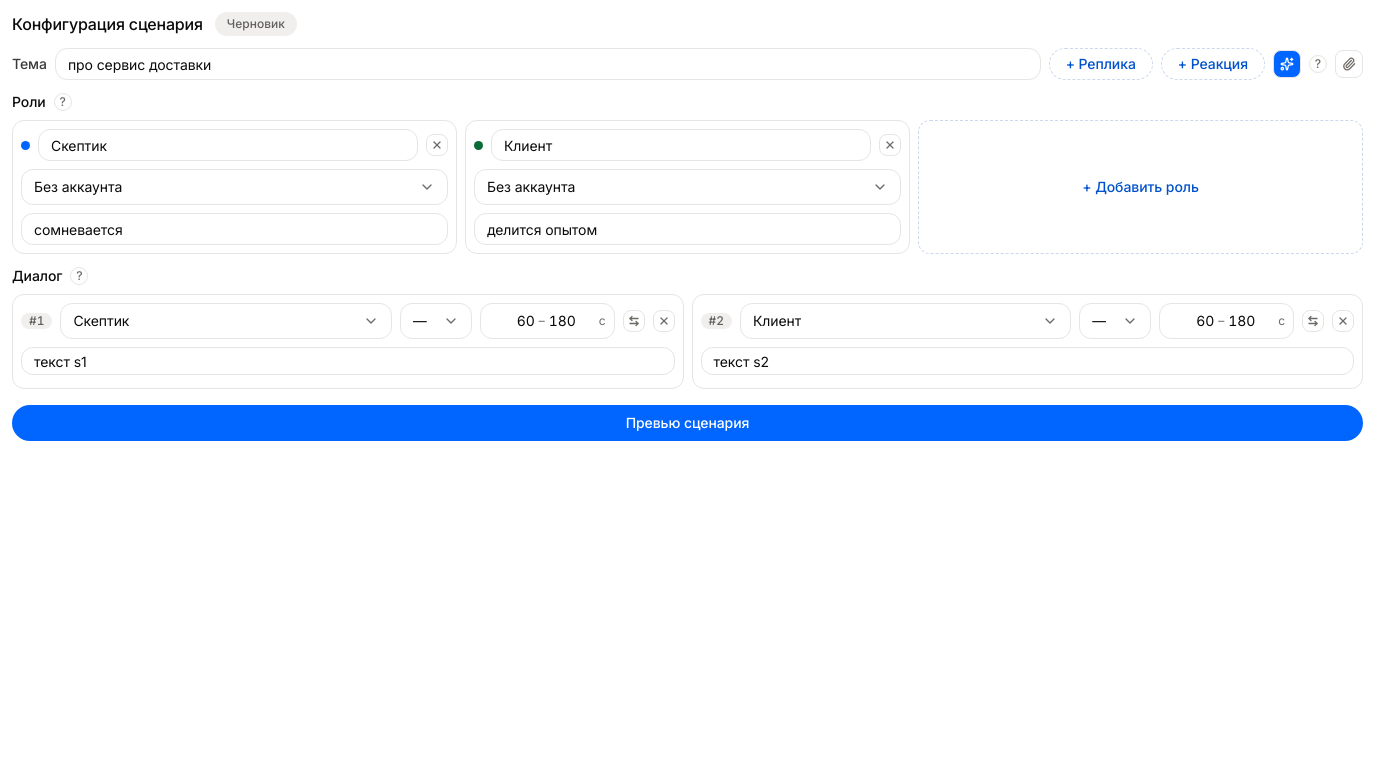
it: a new message step inherits the first role and lands at the end
Click the button "+ Реплика": (1101, 64) [1049,48,1153,80]
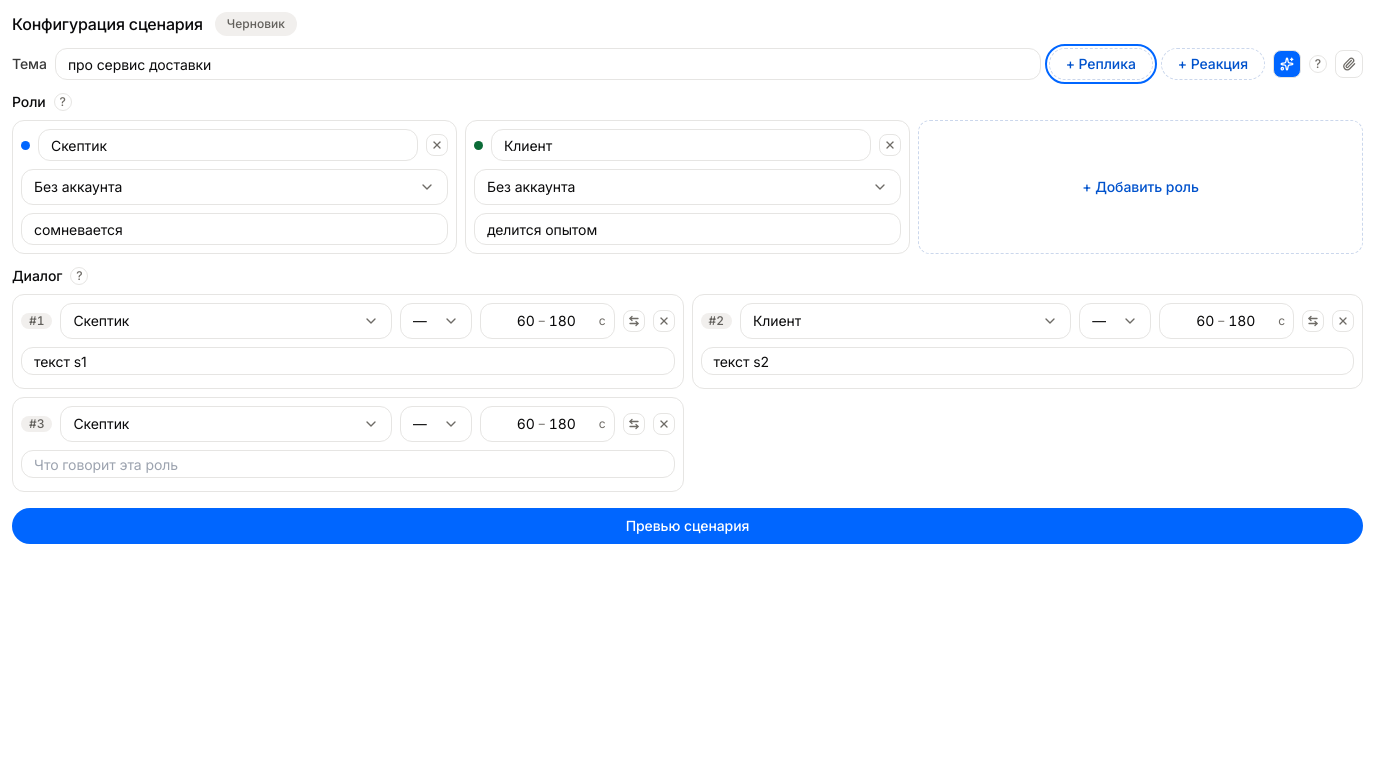
Now the dropdown named "Роль шага 3" reads "Скептик", box [60,406,392,442]
Now the text box named "Текст шага 3" is empty, box [21,450,674,478]
